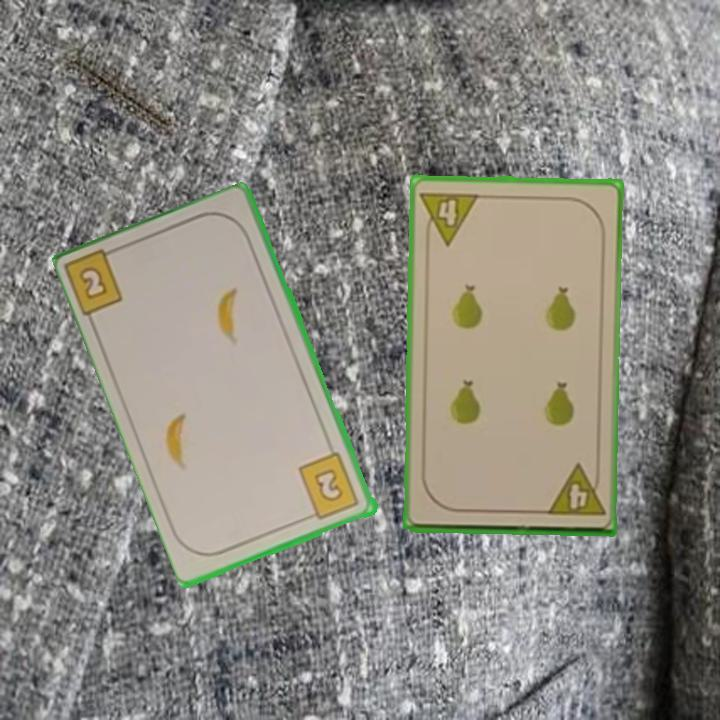2b: (295, 449, 363, 523), (64, 243, 127, 321)
4p: (417, 187, 482, 248), (542, 461, 608, 519)
